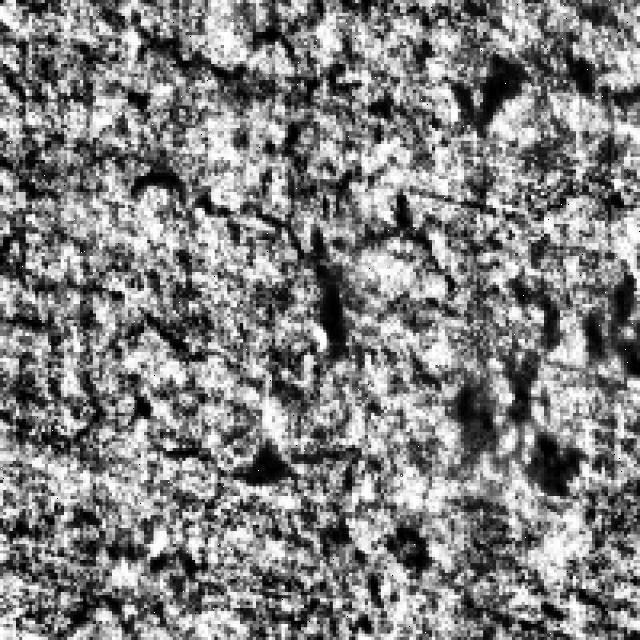Pitted_Surface: (112, 275, 490, 499), (128, 6, 438, 253)
